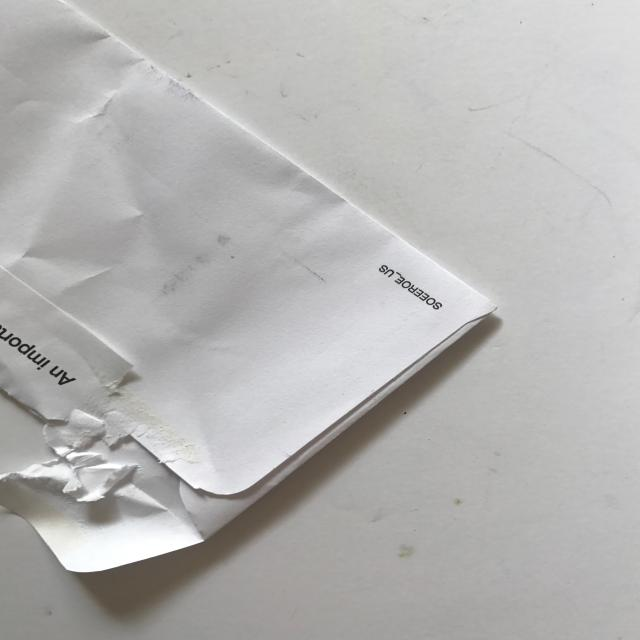paper: (0, 0, 531, 618)
